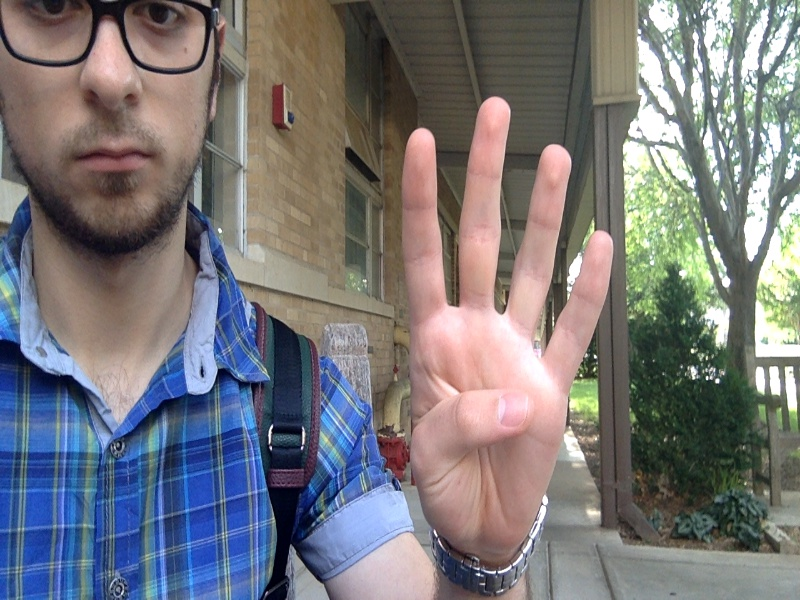4-hand: (400, 94, 613, 559)
